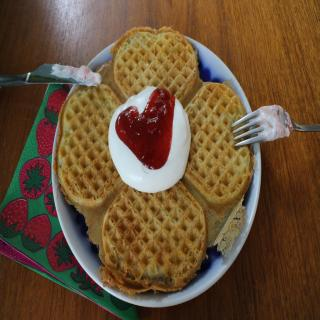Waffle: (52, 26, 256, 298), (108, 27, 202, 108)
